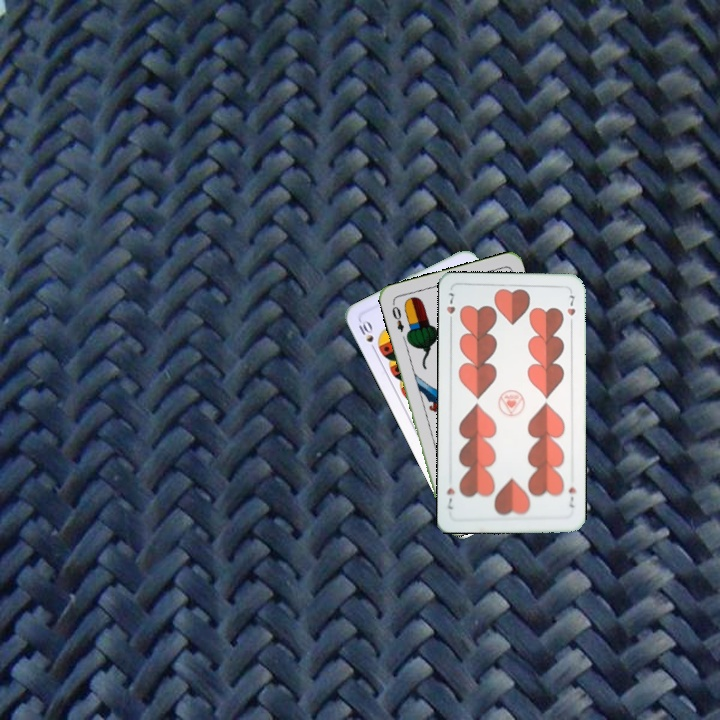EO: (388, 299, 406, 335)
H7: (442, 288, 457, 328), (564, 483, 578, 510)
S10: (353, 315, 383, 355)
